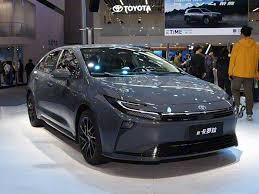toyota: (189, 100, 213, 117)
